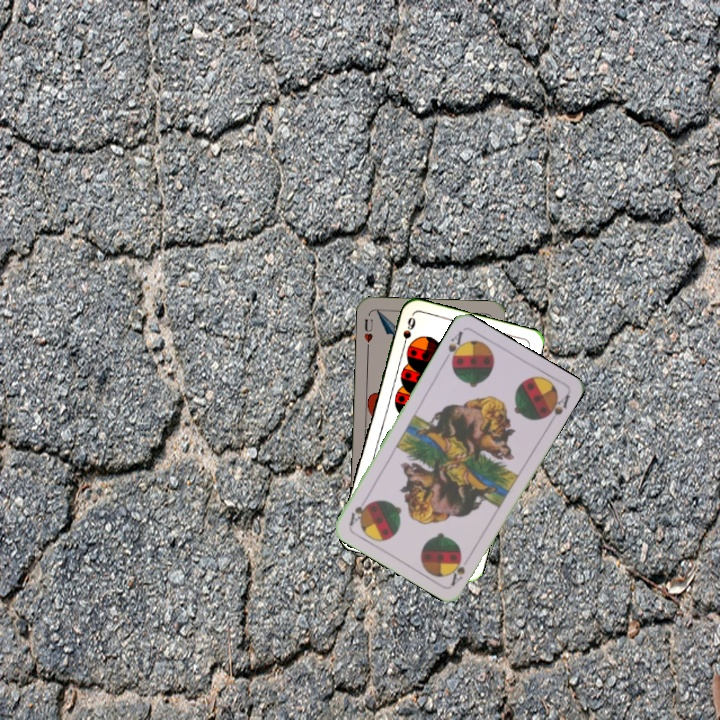HU: (360, 315, 375, 352)
S9: (398, 313, 418, 352)
SA: (440, 327, 467, 367), (447, 551, 473, 588)
